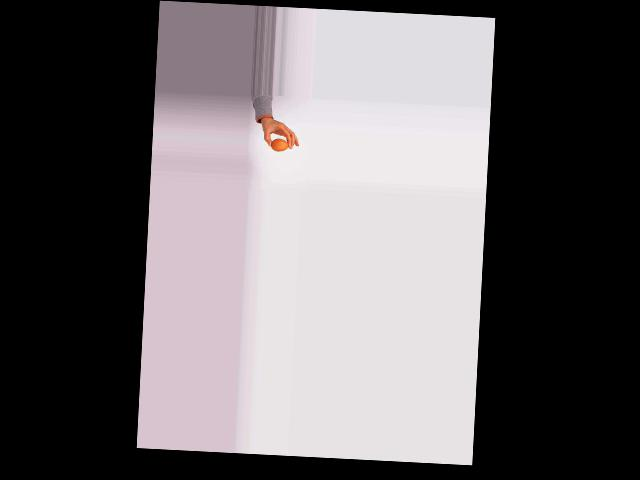egg: (270, 139, 288, 152)
